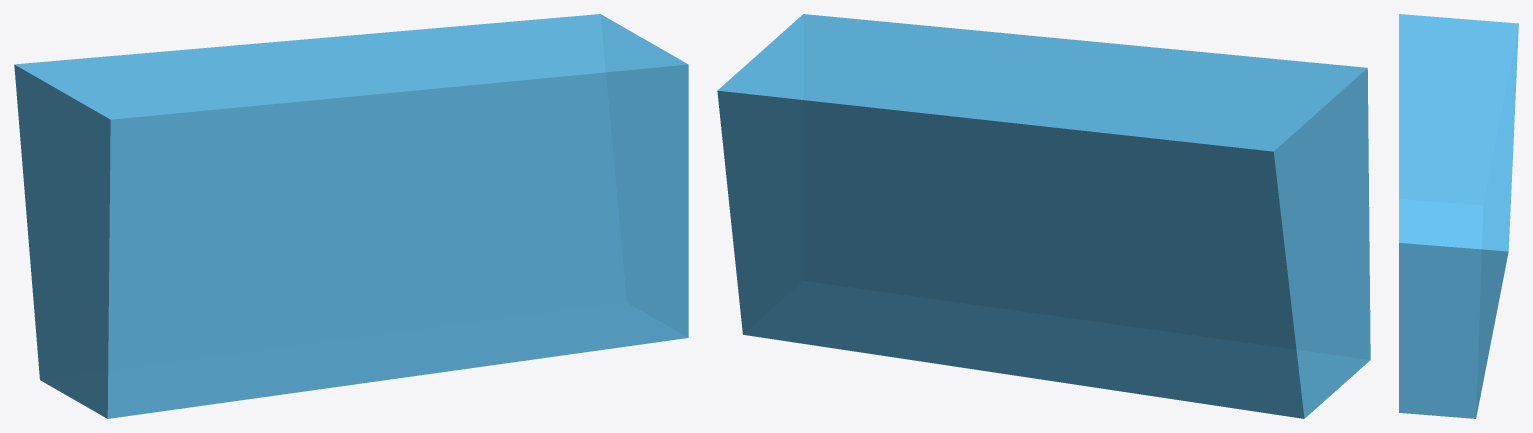
Rendered from Event_421115418_HErechit_107.fbx.
The picture shows the model from 3 angles, left to right: view 1: azimuth 30°, elevation 25°; view 2: azimuth 150°, elevation 25°; view 3: azimuth 270°, elevation 25°; orthographic projection. The views are drawn at different scales.
Parts seen in each view (by area): view 1: Model; view 2: Model; view 3: Model.
Part boxes in pixels (x1,y1,x2,y2): Model: (14,14,688,418); Model: (717,14,1370,418); Model: (1399,14,1518,418).
Size of the model in its own units: 1.04 by 0.6311 by 0.2987.
